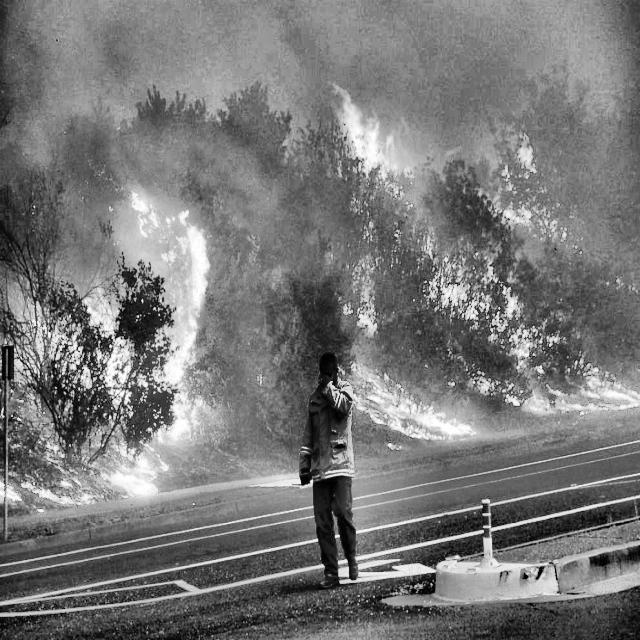fire: (106, 136, 231, 481), (471, 216, 626, 458), (345, 397, 507, 460), (338, 37, 389, 228)
